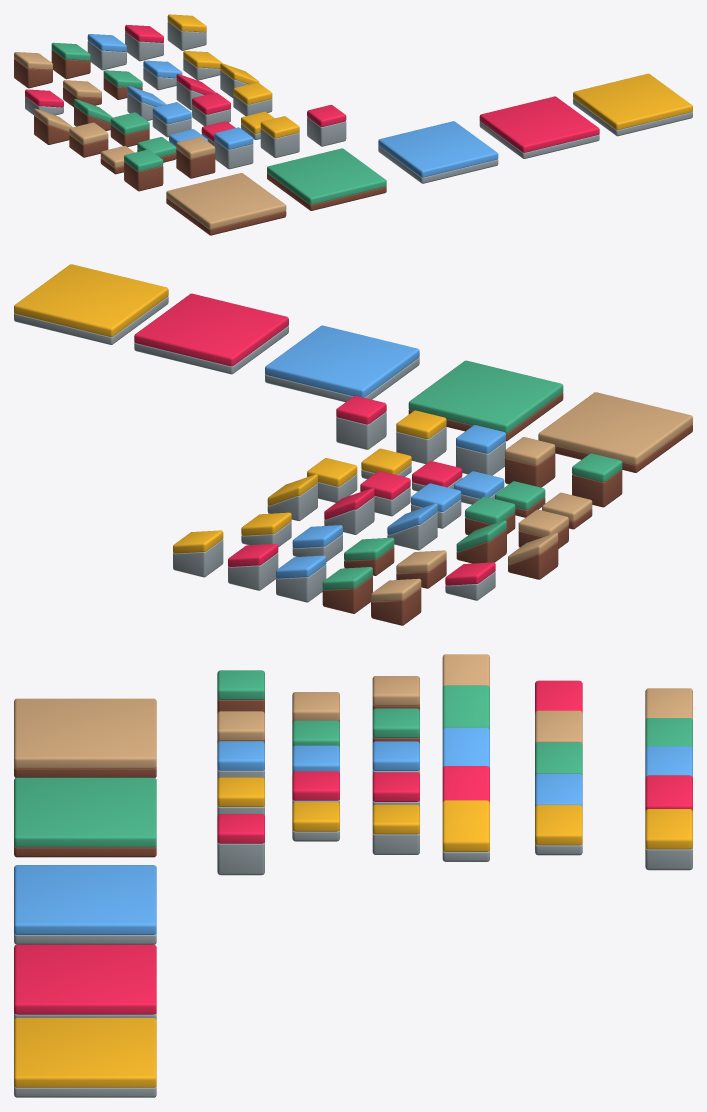
The model's file is Tiles.glb.
3 views of the same model, one above another, from view 1: azimuth 30°, elevation 25°; view 2: azimuth 150°, elevation 25°; view 3: azimuth 270°, elevation 25° (orthographic). The views are drawn at different scales.
Parts seen in each view (by area): view 1: tileLarge_teamRed, tileLarge_desert, tileLarge_teamBlue, tileLarge_forest, tileLarge_teamYellow, tileHigh_desert, tileHigh_teamYellow, tileHigh_forest, tileHigh_teamRed, tileHigh_teamBlue, tileSlopeMediumHigh_teamYellow, tileSlopeMediumHigh_forest (+22 smaller); view 2: tileLarge_teamRed, tileLarge_teamYellow, tileLarge_teamBlue, tileLarge_desert, tileLarge_forest, tileHigh_teamRed, tileHigh_teamYellow, tileHigh_forest, tileHigh_desert, tileHigh_teamBlue, tileSlopeMediumHigh_teamYellow, tileSlopeMediumHigh_desert (+23 smaller); view 3: tileLarge_forest, tileLarge_teamBlue, tileLarge_teamYellow, tileLarge_desert, tileLarge_teamRed, tileSlopeLowHigh_teamYellow, tileHigh_teamRed, tileSlopeMediumHigh_teamYellow, tileSlopeLowMedium_teamYellow, tileMedium_teamYellow, tileSlopeLowHigh_forest, tileHigh_forest (+23 smaller).
Part boxes in pixels (bbox=[...]): tileLarge_teamRed: bbox=[479, 96, 599, 158]; tileLarge_desert: bbox=[166, 173, 286, 235]; tileLarge_teamBlue: bbox=[378, 121, 498, 183]; tileLarge_forest: bbox=[267, 148, 386, 210]; tileLarge_teamYellow: bbox=[573, 73, 692, 136]; tileHigh_desert: bbox=[176, 136, 215, 178]; tileHigh_teamYellow: bbox=[260, 116, 299, 157]; tileHigh_forest: bbox=[124, 149, 163, 191]; tileHigh_teamRed: bbox=[307, 105, 346, 146]; tileHigh_teamBlue: bbox=[214, 127, 253, 169]; tileSlopeMediumHigh_teamYellow: bbox=[167, 14, 206, 50]; tileSlopeMediumHigh_forest: bbox=[51, 42, 90, 79]; tileLarge_teamRed: bbox=[134, 293, 288, 374]; tileLarge_teamYellow: bbox=[14, 264, 168, 344]; tileLarge_teamBlue: bbox=[265, 325, 419, 402]; tileLarge_desert: bbox=[538, 392, 692, 472]; tileLarge_forest: bbox=[408, 360, 563, 441]; tileHigh_teamRed: bbox=[336, 396, 386, 449]; tileHigh_teamYellow: bbox=[396, 410, 446, 463]; tileHigh_forest: bbox=[572, 453, 622, 507]; tileHigh_desert: bbox=[505, 437, 555, 487]; tileHigh_teamBlue: bbox=[456, 425, 505, 475]; tileSlopeMediumHigh_teamYellow: bbox=[173, 530, 223, 577]; tileSlopeMediumHigh_desert: bbox=[371, 578, 421, 625]; tileLarge_forest: bbox=[14, 777, 156, 857]; tileLarge_teamBlue: bbox=[14, 865, 156, 944]; tileLarge_teamYellow: bbox=[14, 1018, 156, 1097]; tileLarge_desert: bbox=[14, 698, 156, 777]; tileLarge_teamRed: bbox=[14, 944, 156, 1019]; tileSlopeLowHigh_teamYellow: bbox=[442, 800, 489, 861]; tileHigh_teamRed: bbox=[217, 814, 264, 875]; tileSlopeMediumHigh_teamYellow: bbox=[645, 809, 692, 870]; tileSlopeLowMedium_teamYellow: bbox=[535, 805, 582, 855]; tileMedium_teamYellow: bbox=[372, 804, 419, 854]; tileSlopeLowHigh_forest: bbox=[442, 685, 489, 729]; tileHigh_forest: bbox=[217, 670, 264, 713].
Size of what is drawn, in the model's own units: 39.98 by 2 by 28.52.
